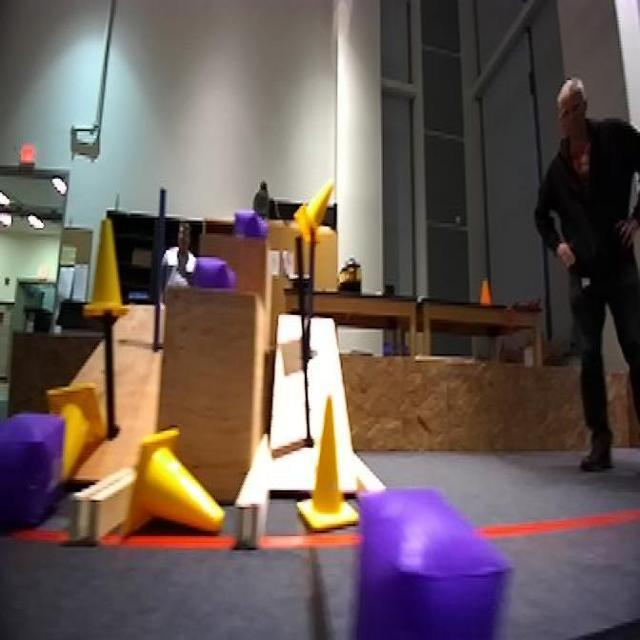frc_cone: (130, 426, 228, 546), (291, 395, 361, 533), (83, 209, 134, 320), (44, 386, 101, 485), (290, 177, 338, 247)
frc_cube: (343, 509, 488, 625), (0, 408, 61, 526), (193, 252, 234, 291), (232, 204, 267, 240)
